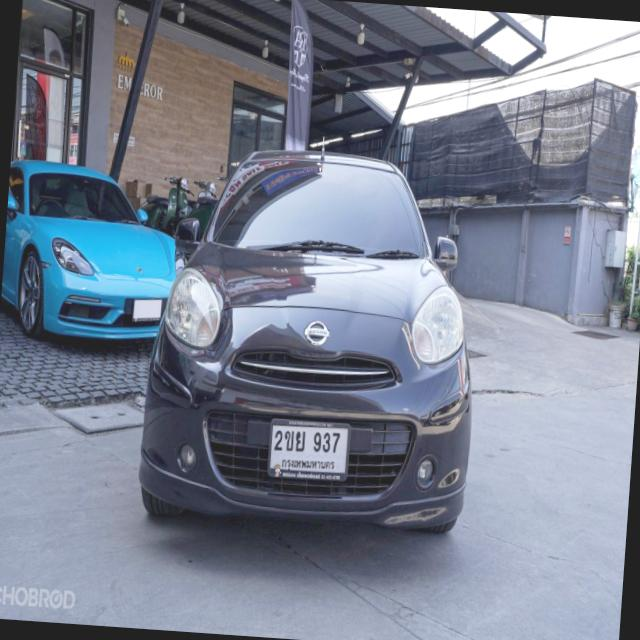license_plate: (262, 410, 352, 494)
